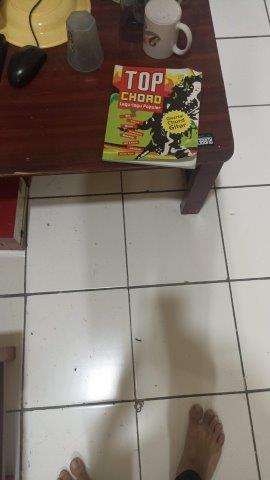kertas: (98, 64, 202, 175)
